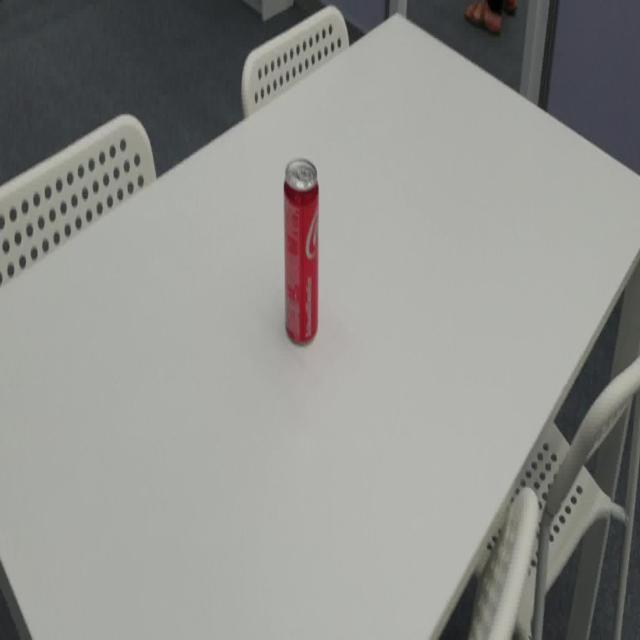coca-cola: (282, 155, 321, 352)
